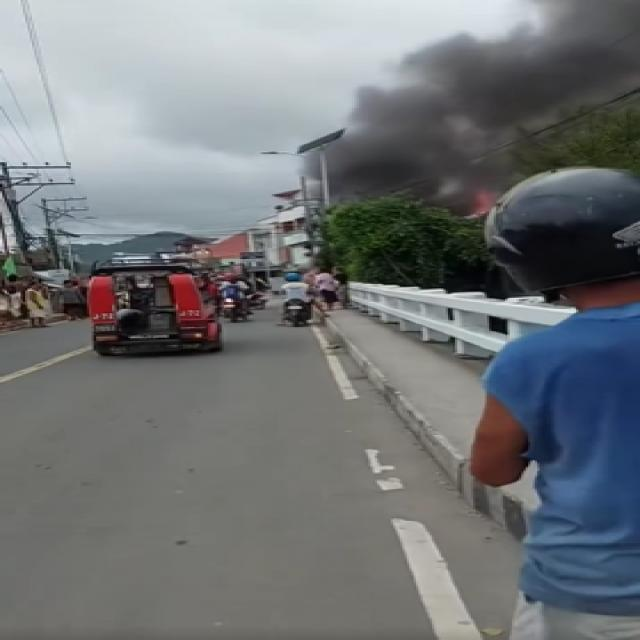Smoke: (418, 5, 640, 96), (345, 91, 505, 194)
